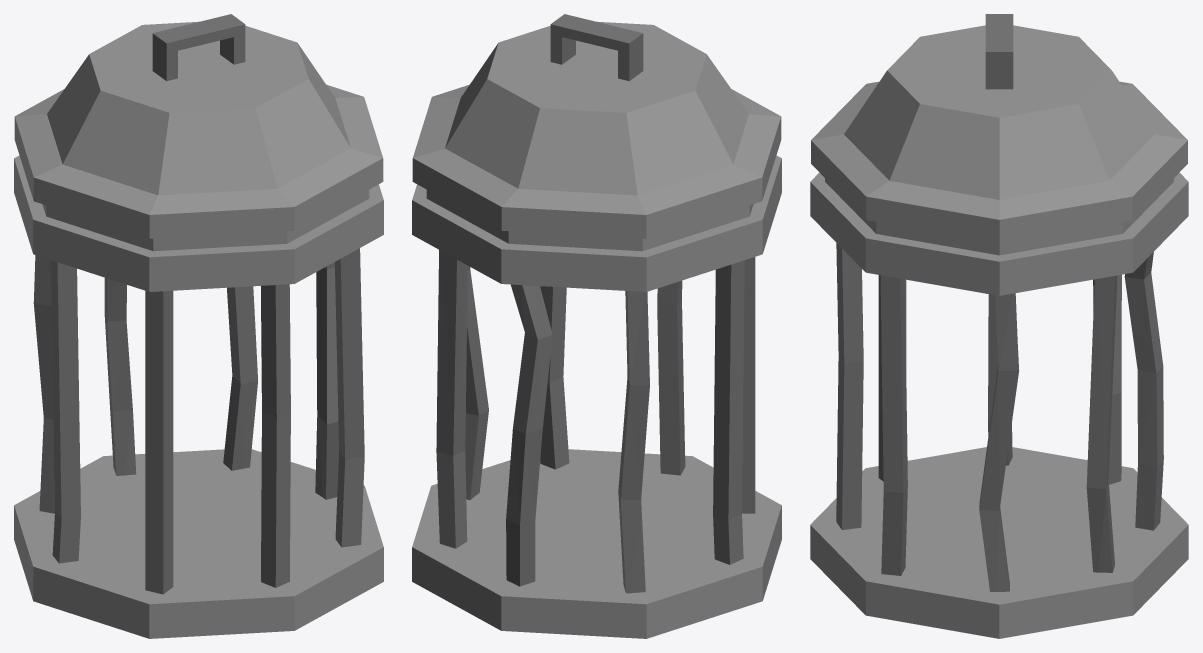
File: LPCP_Cage04.fbx
3 views of the same model, side by side, from view 1: azimuth 30°, elevation 25°; view 2: azimuth 150°, elevation 25°; view 3: azimuth 270°, elevation 25° (orthographic).
Visible parts, largest first — view 1: LPCP_Cage04; view 2: LPCP_Cage04; view 3: LPCP_Cage04.
Part boxes in pixels (box(x1,y1,x2,y2)): LPCP_Cage04: box(14, 14, 383, 638); LPCP_Cage04: box(412, 14, 781, 638); LPCP_Cage04: box(810, 14, 1188, 638).
Size of the model in its own units: 2 by 3.07 by 2.
